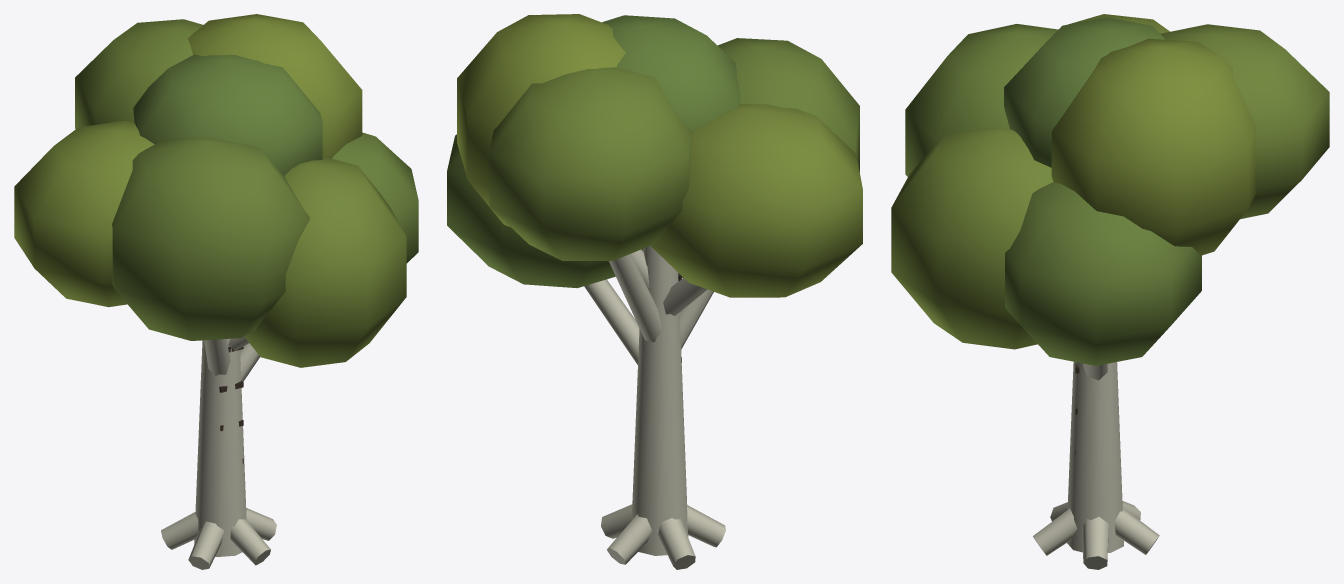
The model's file is Nature_Tree_Birch.glb.
The picture shows the model from 3 angles, left to right: view 1: azimuth 30°, elevation 25°; view 2: azimuth 150°, elevation 25°; view 3: azimuth 270°, elevation 25°; orthographic projection. The views are drawn at different scales.
Visible parts, largest first — view 1: _MeshInstance3D_4418, _MeshInstance3D_4422, _MeshInstance3D_4424, _MeshInstance3D_4427, _MeshInstance3D_4426, _MeshInstance3D_4409, _MeshInstance3D_4420, _MeshInstance3D_4416, _MeshInstance3D_4412, _MeshInstance3D_4411, _MeshInstance3D_4413, _MeshInstance3D_4417 (+1 smaller); view 2: _MeshInstance3D_4420, _MeshInstance3D_4424, _MeshInstance3D_4426, _MeshInstance3D_4409, _MeshInstance3D_4427, _MeshInstance3D_4418, _MeshInstance3D_4416, _MeshInstance3D_4419, _MeshInstance3D_4415, _MeshInstance3D_4413, _MeshInstance3D_4414, _MeshInstance3D_4412 (+3 smaller); view 3: _MeshInstance3D_4426, _MeshInstance3D_4416, _MeshInstance3D_4422, _MeshInstance3D_4420, _MeshInstance3D_4418, _MeshInstance3D_4427, _MeshInstance3D_4409, _MeshInstance3D_4410, _MeshInstance3D_4414, _MeshInstance3D_4411.
Part boxes in pixels (bbox=[...]): _MeshInstance3D_4418: bbox=[112, 138, 309, 340]; _MeshInstance3D_4422: bbox=[244, 156, 406, 367]; _MeshInstance3D_4424: bbox=[14, 121, 154, 307]; _MeshInstance3D_4427: bbox=[133, 54, 322, 175]; _MeshInstance3D_4426: bbox=[188, 14, 362, 158]; _MeshInstance3D_4409: bbox=[194, 338, 246, 556]; _MeshInstance3D_4420: bbox=[75, 19, 202, 129]; _MeshInstance3D_4416: bbox=[332, 132, 418, 263]; _MeshInstance3D_4412: bbox=[188, 521, 224, 569]; _MeshInstance3D_4411: bbox=[230, 519, 270, 565]; _MeshInstance3D_4413: bbox=[161, 512, 198, 549]; _MeshInstance3D_4417: bbox=[204, 339, 230, 375]; _MeshInstance3D_4420: bbox=[489, 67, 692, 260]; _MeshInstance3D_4424: bbox=[650, 104, 862, 297]; _MeshInstance3D_4426: bbox=[457, 14, 625, 227]; _MeshInstance3D_4409: bbox=[631, 246, 688, 555]; _MeshInstance3D_4427: bbox=[602, 15, 740, 131]; _MeshInstance3D_4418: bbox=[717, 38, 859, 172]; _MeshInstance3D_4416: bbox=[447, 134, 642, 288]; _MeshInstance3D_4419: bbox=[609, 254, 662, 342]; _MeshInstance3D_4415: bbox=[584, 279, 639, 365]; _MeshInstance3D_4413: bbox=[658, 518, 695, 569]; _MeshInstance3D_4414: bbox=[607, 514, 651, 564]; _MeshInstance3D_4412: bbox=[686, 505, 725, 547]; _MeshInstance3D_4426: bbox=[1051, 38, 1256, 255]; _MeshInstance3D_4416: bbox=[1005, 182, 1201, 365]; _MeshInstance3D_4422: bbox=[891, 127, 1053, 349]; _MeshInstance3D_4420: bbox=[1160, 24, 1329, 219]; _MeshInstance3D_4418: bbox=[905, 24, 1058, 176]; _MeshInstance3D_4427: bbox=[1004, 17, 1164, 167]; _MeshInstance3D_4409: bbox=[1067, 362, 1123, 552]; _MeshInstance3D_4410: bbox=[1082, 517, 1108, 569]; _MeshInstance3D_4414: bbox=[1114, 508, 1159, 554]; _MeshInstance3D_4411: bbox=[1033, 508, 1077, 555].
Size of the model in its own units: 4.11 by 5.14 by 3.83.
